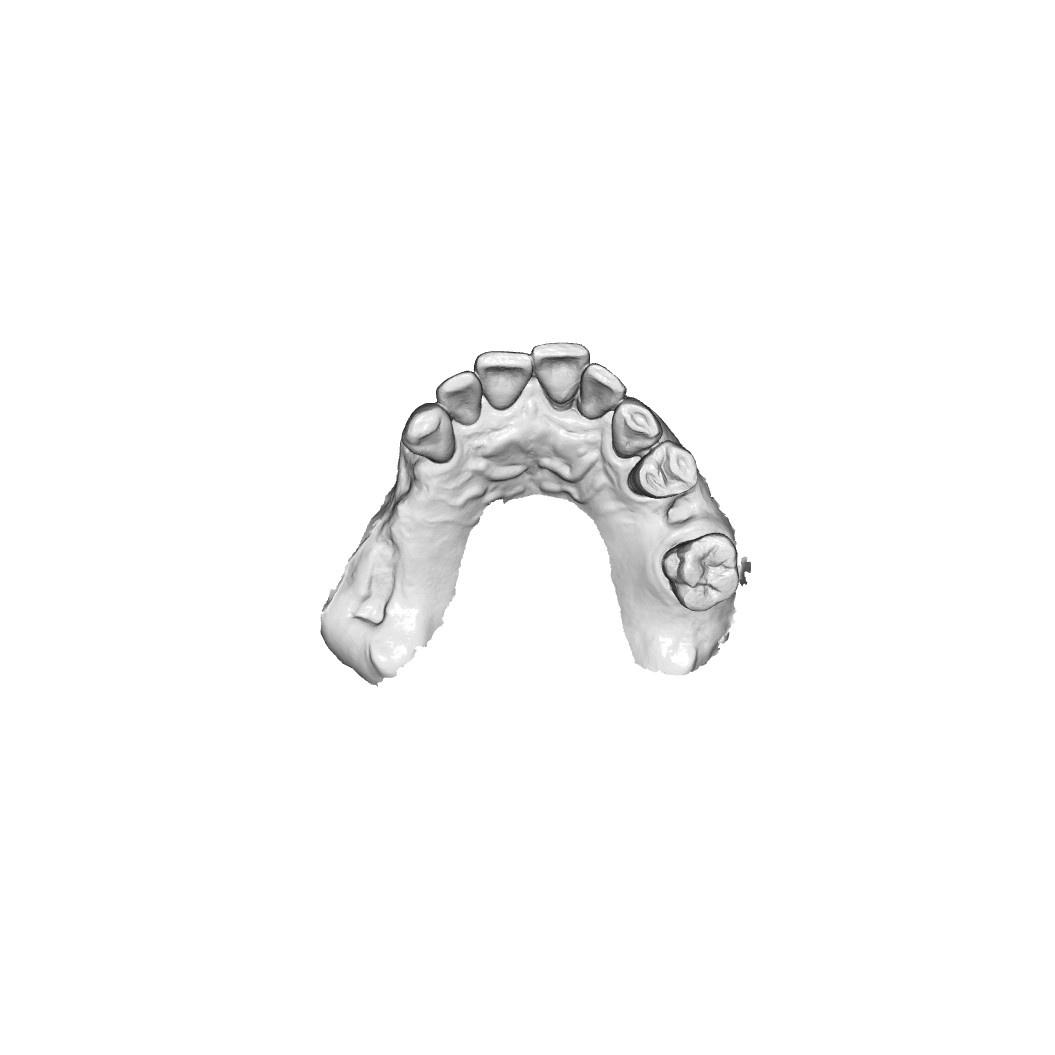canine: (607, 398, 664, 461), (400, 403, 455, 466)
incisor: (531, 335, 589, 402), (476, 351, 533, 410), (433, 366, 485, 428), (579, 362, 628, 416)
molar: (658, 529, 744, 615)
premolar: (627, 440, 698, 503)
